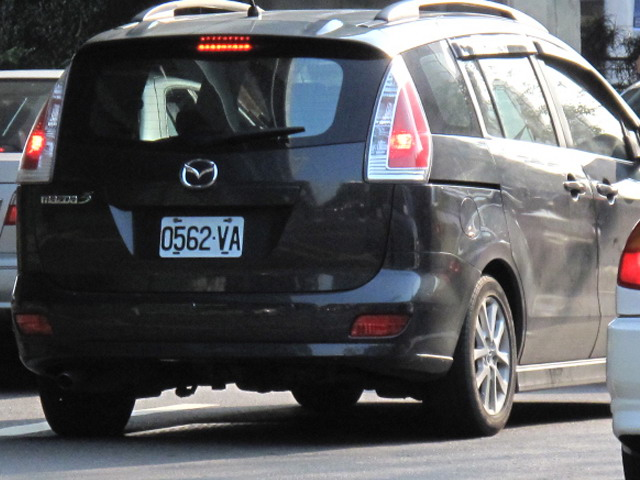plate: (157, 211, 249, 262)
